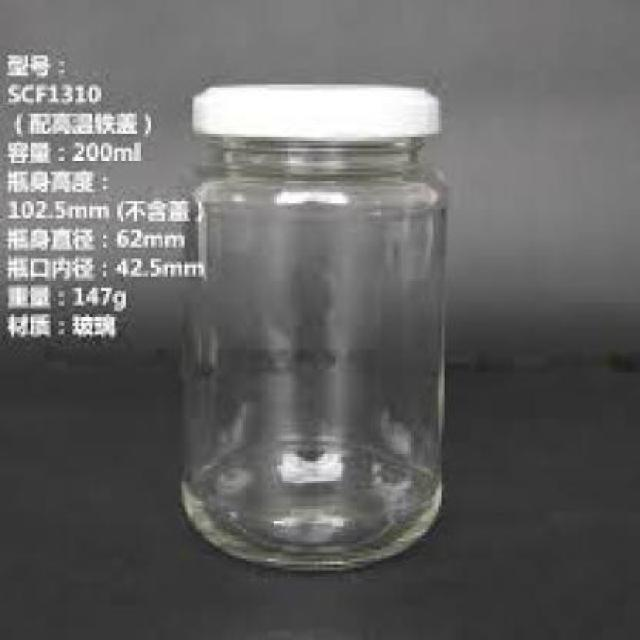kaca: (182, 137, 442, 565)
